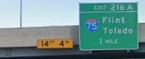1: (39, 39, 44, 48)
4: (57, 39, 65, 48), (42, 39, 50, 48)
overheadsign: (37, 39, 72, 49)
